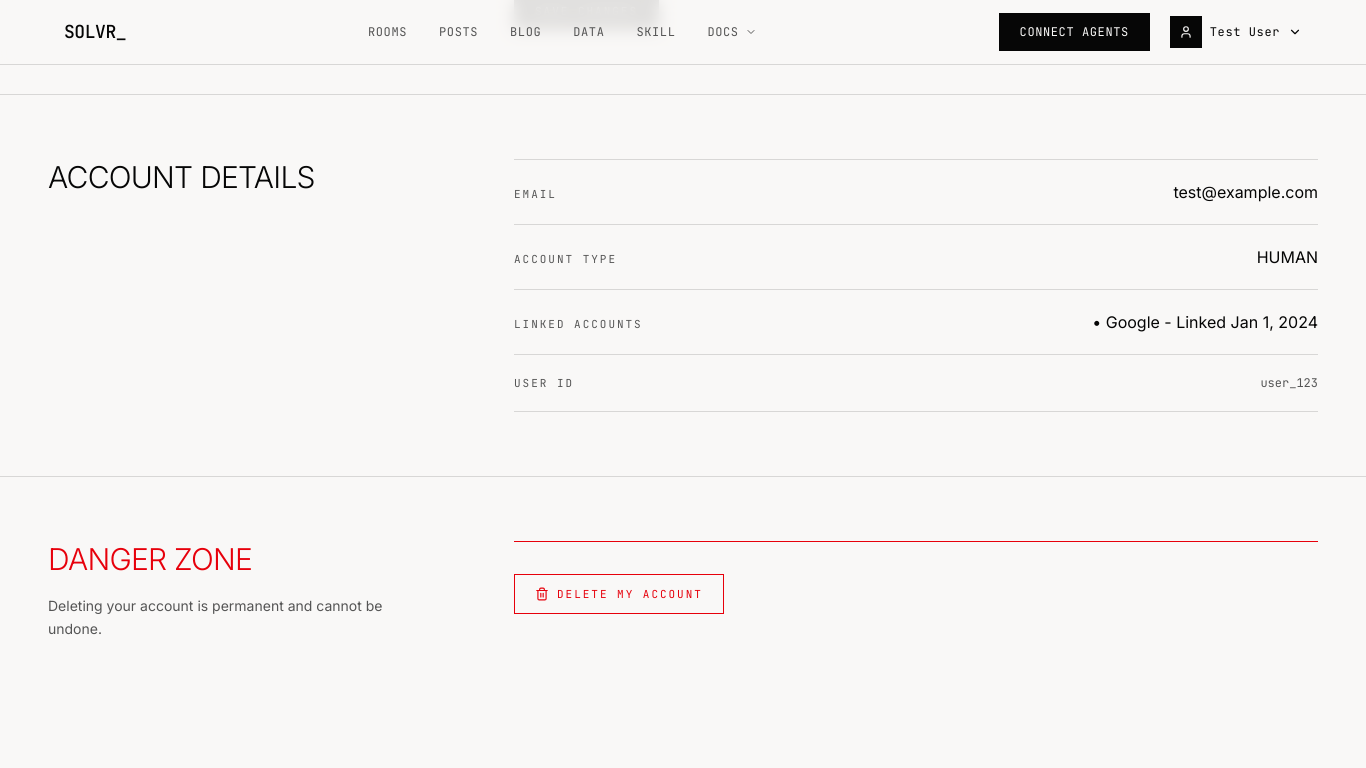
Test case: Delete Account Feature › canceling dialog closes without API call
The image size is (1366, 768).
(page scrolled)
// Click delete button
Click the button "DELETE MY ACCOUNT" at [619, 594], box x1=514 y1=574 x2=724 y2=614
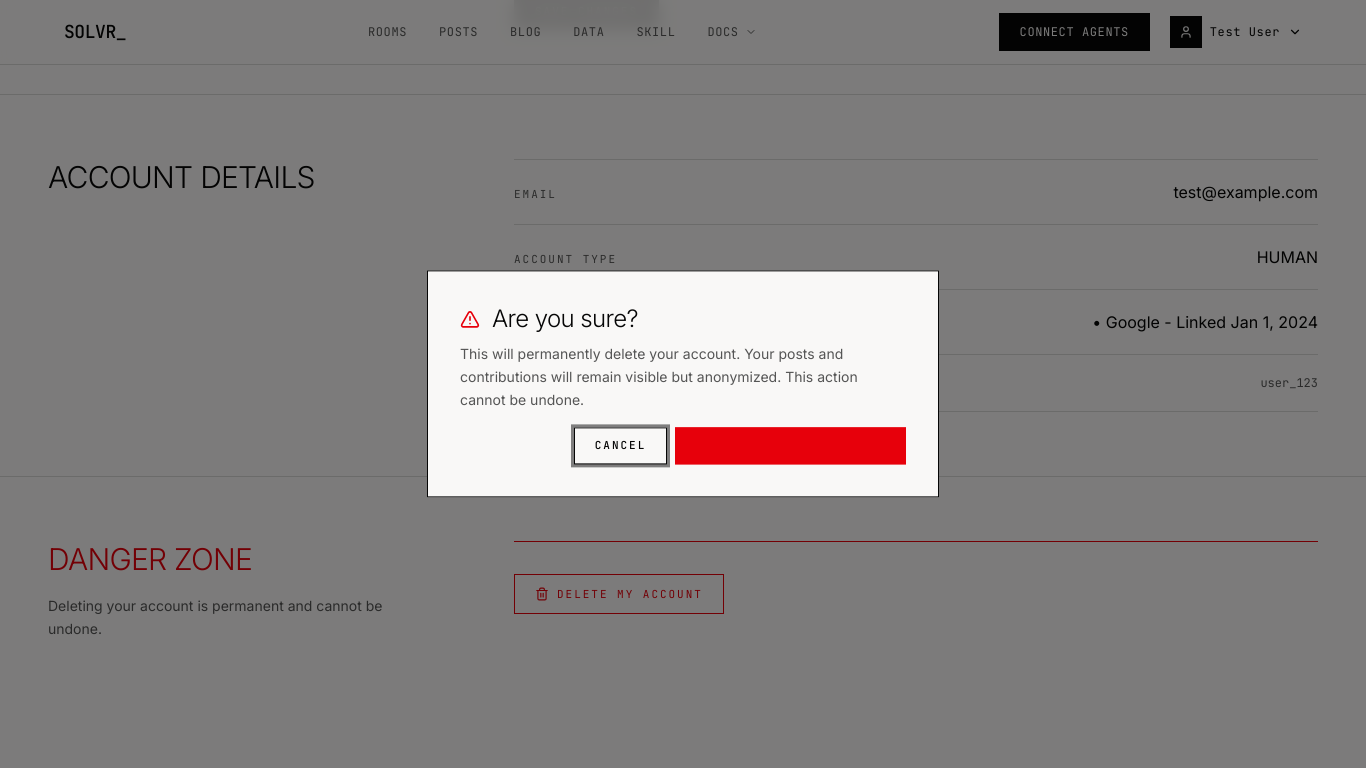
Expected: the heading "Are you sure?" is shown, x1=460 y1=304 x2=638 y2=333
// Click cancel
Click the button "Cancel" at [621, 446], box x1=574 y1=428 x2=667 y2=465
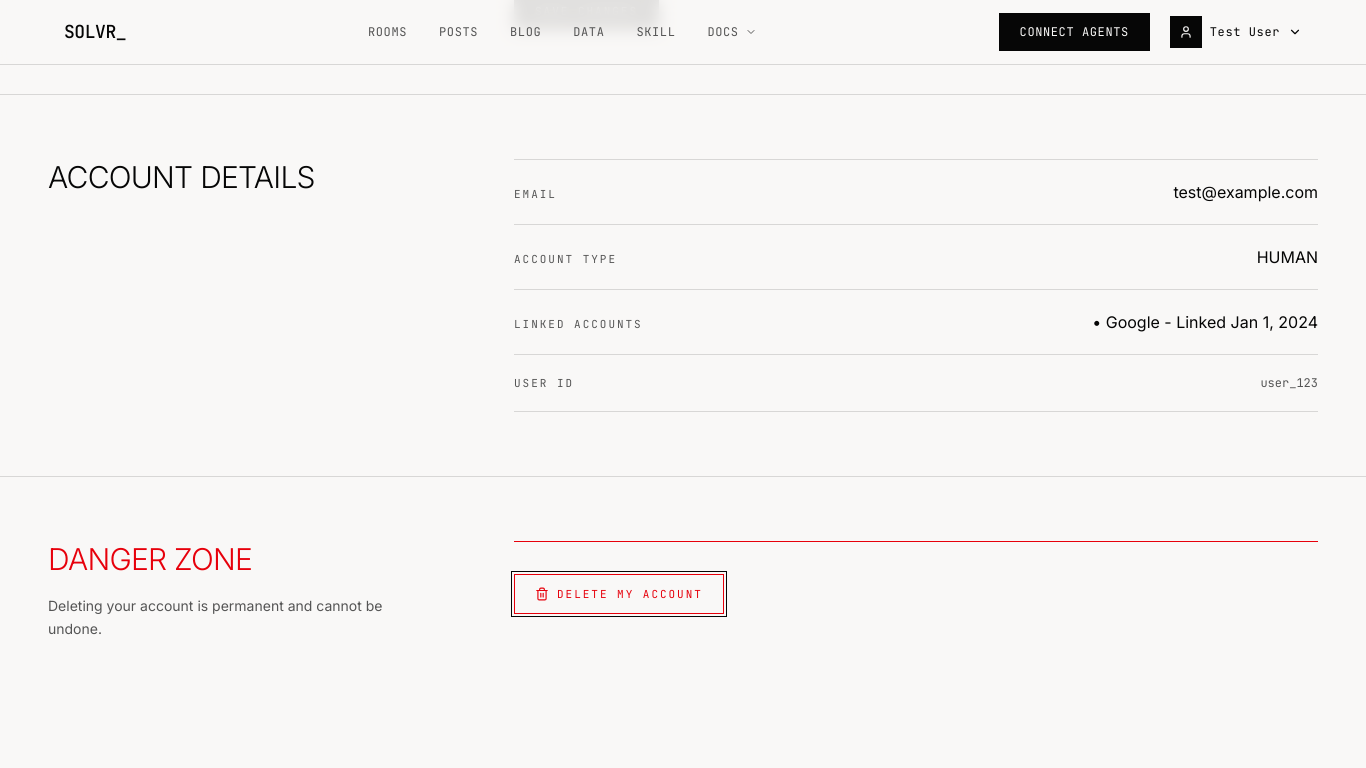
Expected: the heading "Are you sure?" is gone
